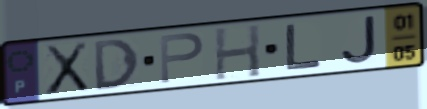D: (91, 37, 142, 93)
H: (212, 22, 263, 82)
J: (339, 13, 378, 66)
L: (283, 22, 326, 73)
P: (157, 30, 207, 86)
X: (42, 39, 91, 98)
